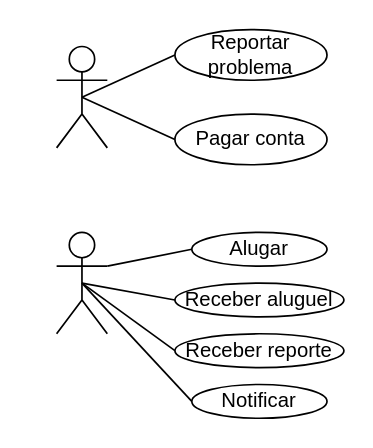
Image size: 373x448. Some labels were removed from this diagram. Each missing label, with the centre of its shape:
Inquilino: the point at 81,96
Proprietário: the point at 81,282
